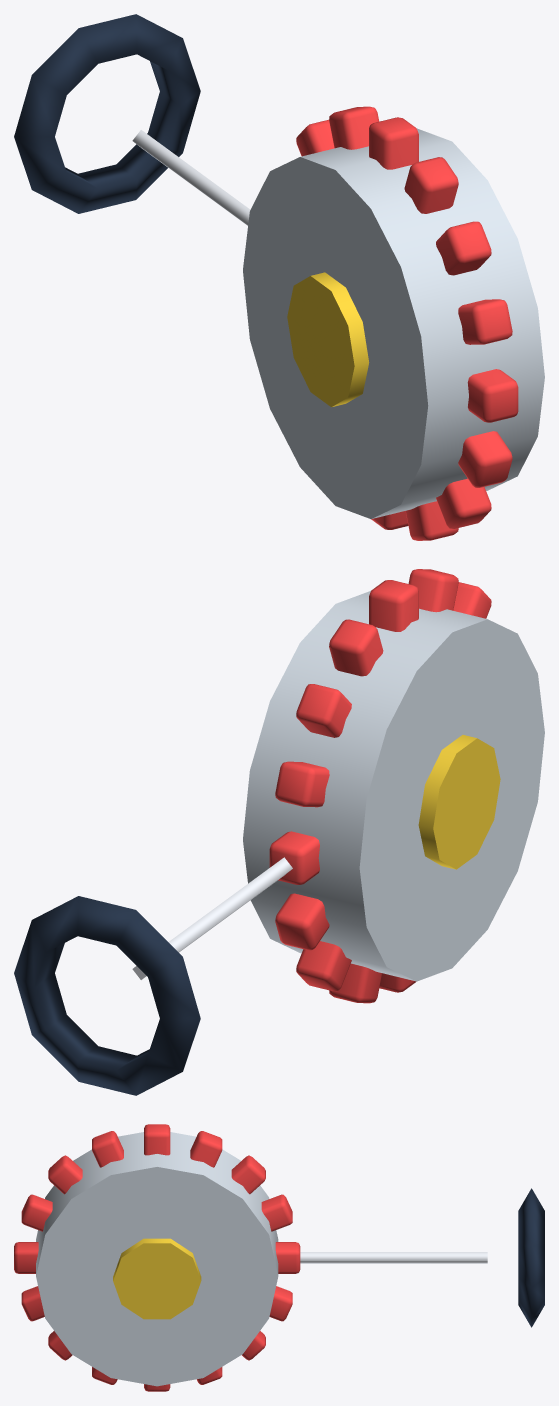
File: SawYoyo.fbx
The picture shows the model from 3 angles, top to bottom: view 1: azimuth 30°, elevation 25°; view 2: azimuth 150°, elevation 25°; view 3: azimuth 270°, elevation 25°; orthographic projection. The views are drawn at different scales.
Parts seen in each view (by area): view 1: SawYoyo; view 2: SawYoyo; view 3: SawYoyo.
Boxes of the visible parts, box(x1,y1,x2,y2) form: SawYoyo: box(14, 14, 544, 540); SawYoyo: box(14, 569, 544, 1095); SawYoyo: box(14, 1124, 544, 1391).
Bounding box in the file's own units: 0.064 × 0.13 × 0.2411.
